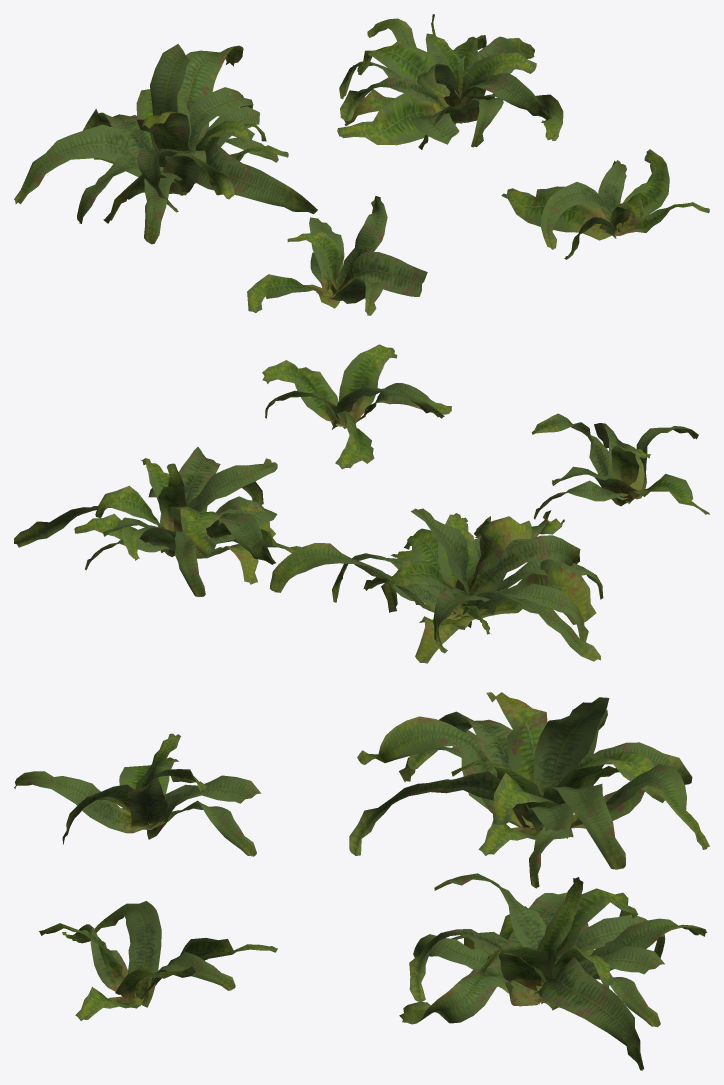
Rendered from fern.glb.
3 views of the same model, one above another, from view 1: azimuth 30°, elevation 25°; view 2: azimuth 150°, elevation 25°; view 3: azimuth 270°, elevation 25° (orthographic). The views are drawn at different scales.
Bounding box in the file's own units: 1.97 × 0.4277 × 1.72.
Materials: 1 (1 with a texture image).
